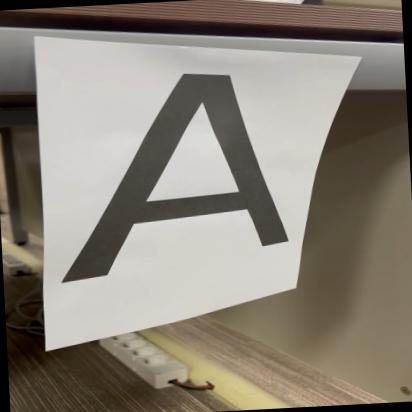seat: (56, 56, 303, 296)
